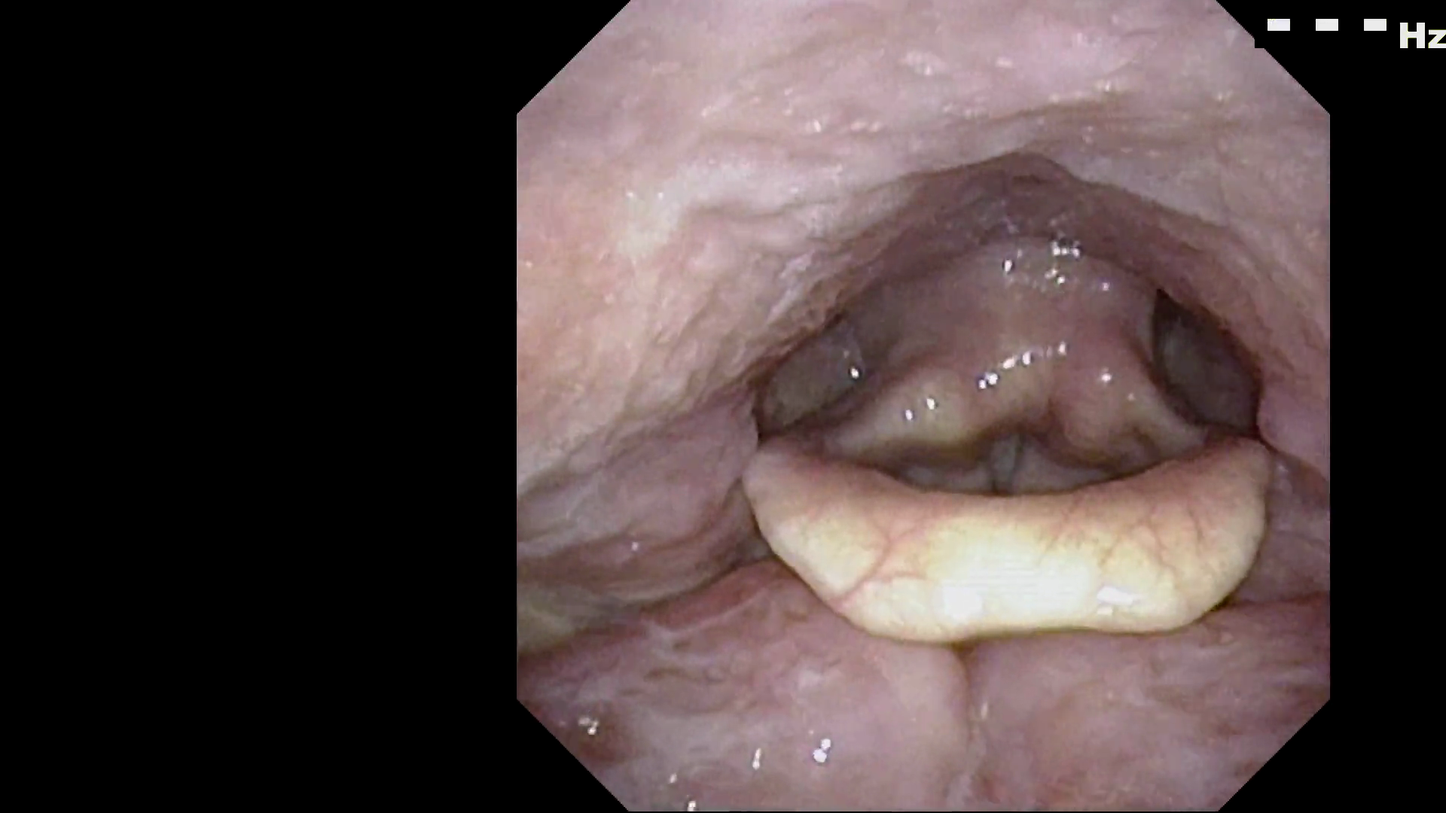epiglottis: (719, 426, 1282, 657)
trachea: (946, 406, 1069, 540)
